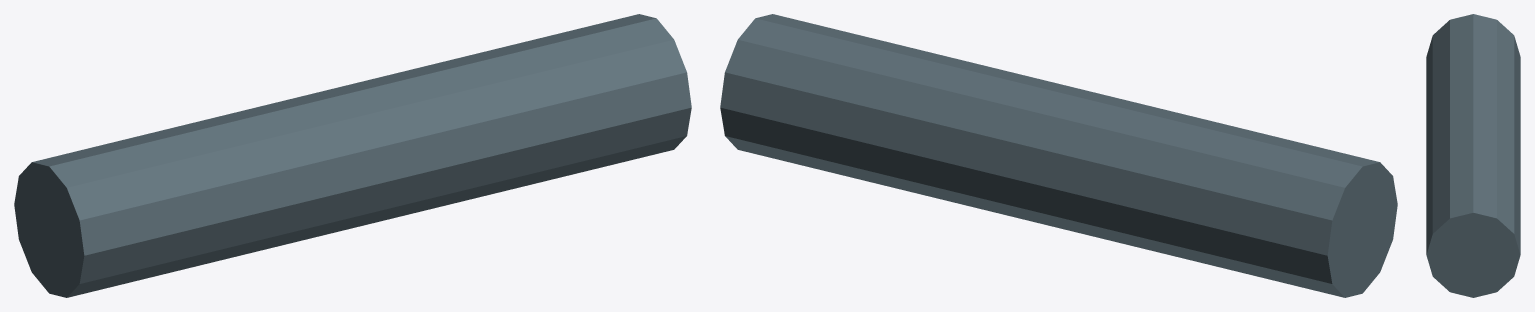
File: SM_Factory_Large_pipe_4m.glb
3 renders of one model, left to right at view 1: azimuth 30°, elevation 25°; view 2: azimuth 150°, elevation 25°; view 3: azimuth 270°, elevation 25°, orthographic. The views are drawn at different scales.
Visible parts, largest first — view 1: SM_Factory_Large_pipe_4m; view 2: SM_Factory_Large_pipe_4m; view 3: SM_Factory_Large_pipe_4m.
Part boxes in pixels (box(x1,y1,x2,y2)): SM_Factory_Large_pipe_4m: box(14, 14, 691, 297); SM_Factory_Large_pipe_4m: box(720, 14, 1397, 297); SM_Factory_Large_pipe_4m: box(1426, 14, 1520, 297).
Bounding box in the file's own units: 4 × 0.8 × 0.8.
Materials: 1 (1 with a texture image).
